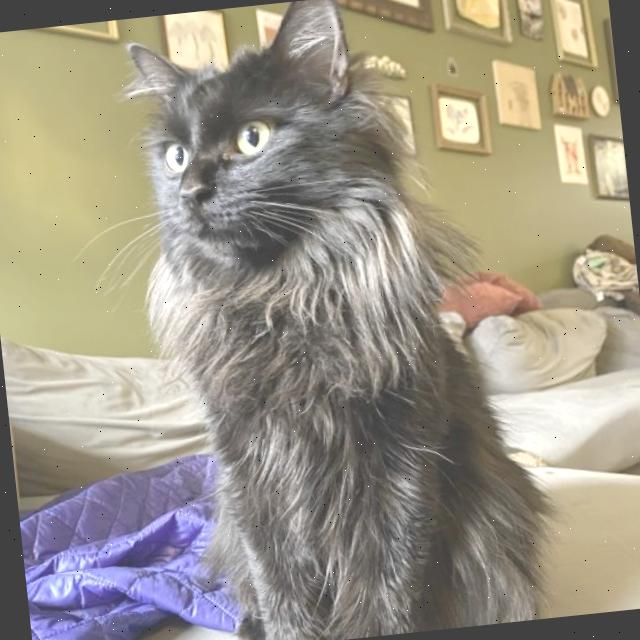domestic_long_hair_cat: (83, 0, 484, 428)
